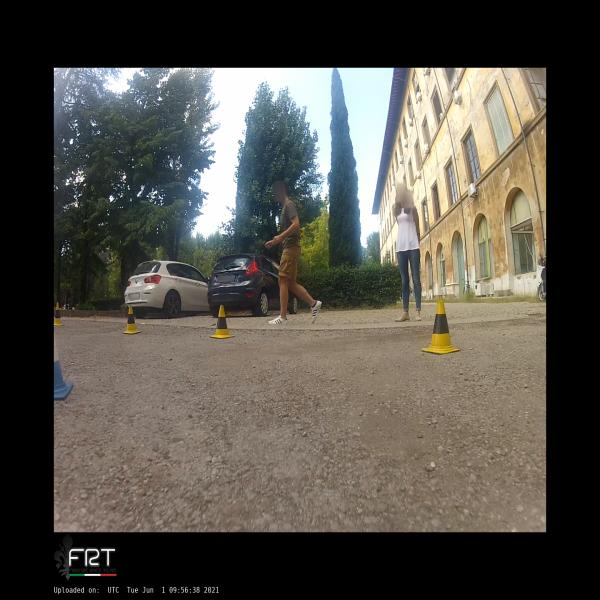blue_cone: (54, 339, 73, 400)
yellow_cone: (420, 296, 461, 354), (209, 305, 235, 339), (122, 304, 142, 334), (54, 302, 64, 326)
